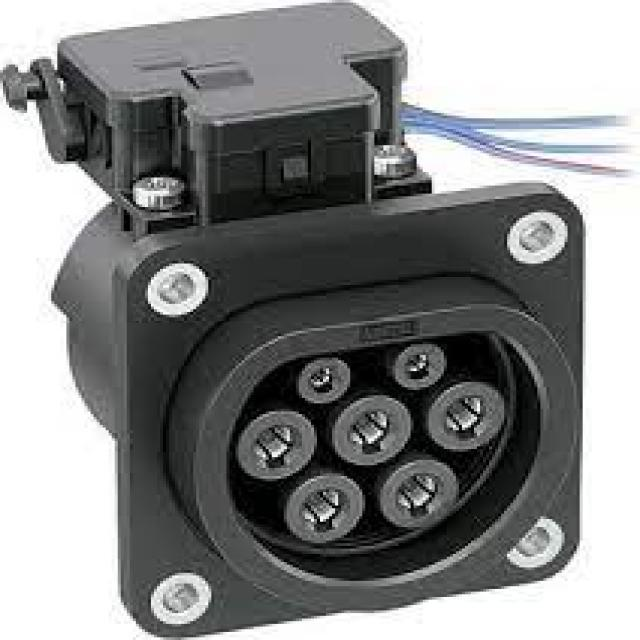Type 2: (176, 276, 564, 602)
